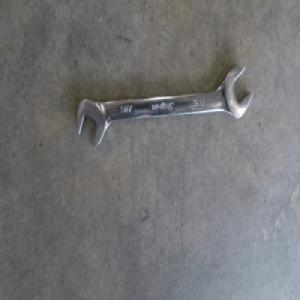Wrench: (79, 61, 251, 146)
